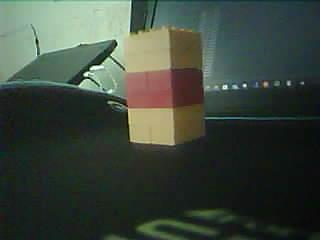lego: (122, 26, 204, 146)
